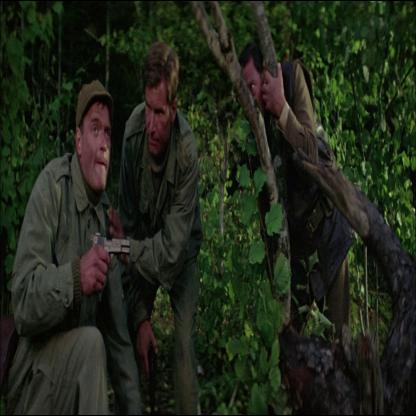gun: (89, 218, 142, 298)
